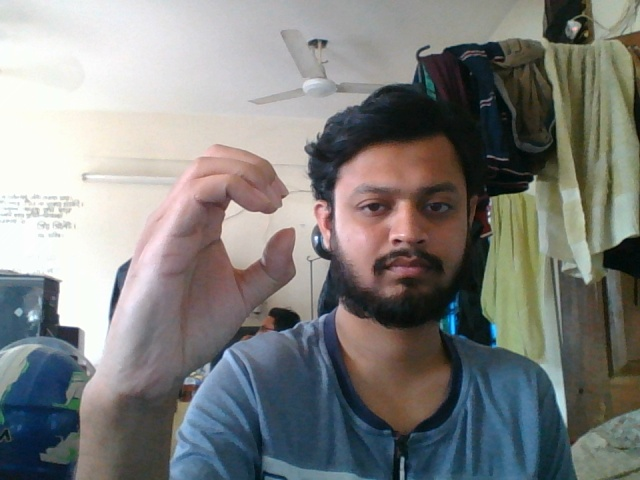ka: (106, 140, 306, 413)
